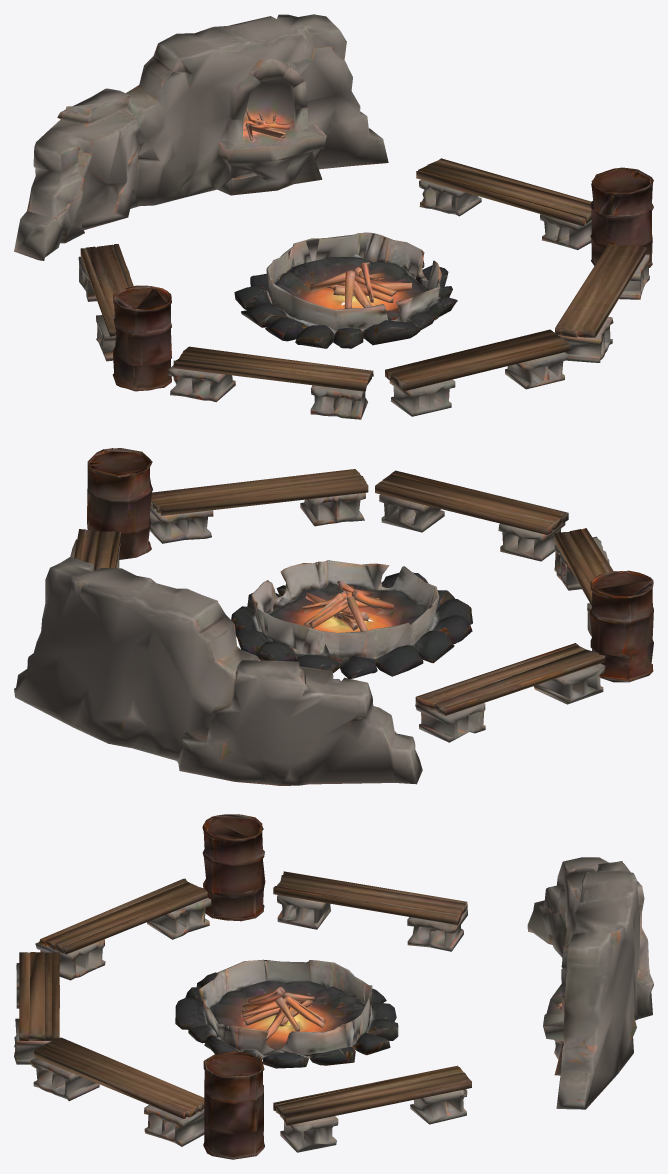
File: firepit.glb
The picture shows the model from 3 angles, top to bottom: view 1: azimuth 30°, elevation 25°; view 2: azimuth 150°, elevation 25°; view 3: azimuth 270°, elevation 25°; orthographic projection. The views are drawn at different scales.
Size of the model in its own units: 0.9316 by 0.2437 by 0.9546.
Materials: 1 (1 with a texture image).
